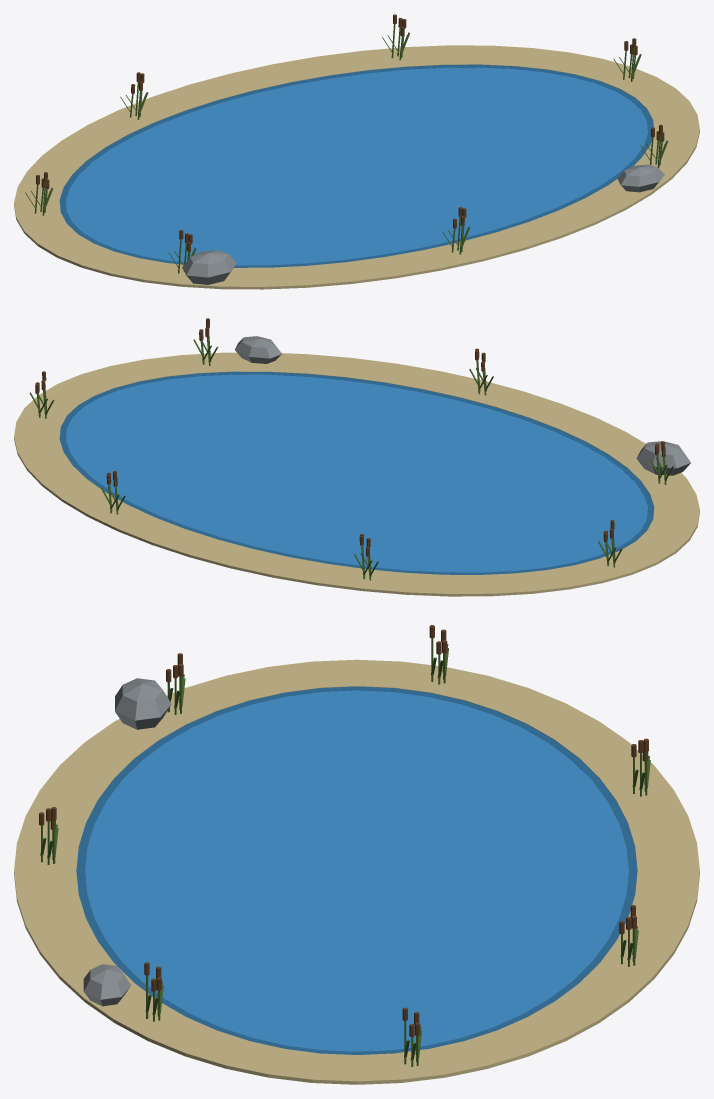
The model's file is pond.glb.
The picture shows the model from 3 angles, top to bottom: view 1: azimuth 30°, elevation 25°; view 2: azimuth 150°, elevation 25°; view 3: azimuth 270°, elevation 25°; orthographic projection. The views are drawn at different scales.
Parts seen in each view (by area): view 1: body; view 2: body; view 3: body.
Part boxes in pixels (box(x1,y1,x2,y2)): body: box(14, 14, 699, 289); body: box(14, 318, 699, 596); body: box(14, 625, 699, 1084).
Bounding box in the file's own units: 16 × 1.07 × 11.
